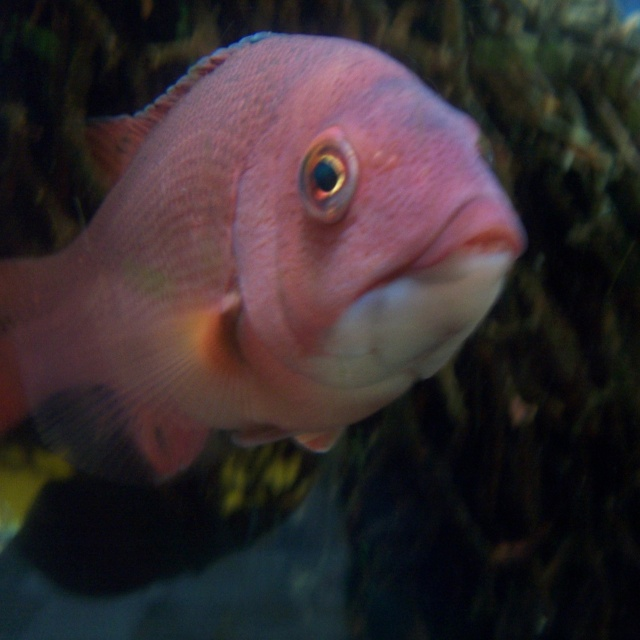Fish: (0, 31, 526, 480)
